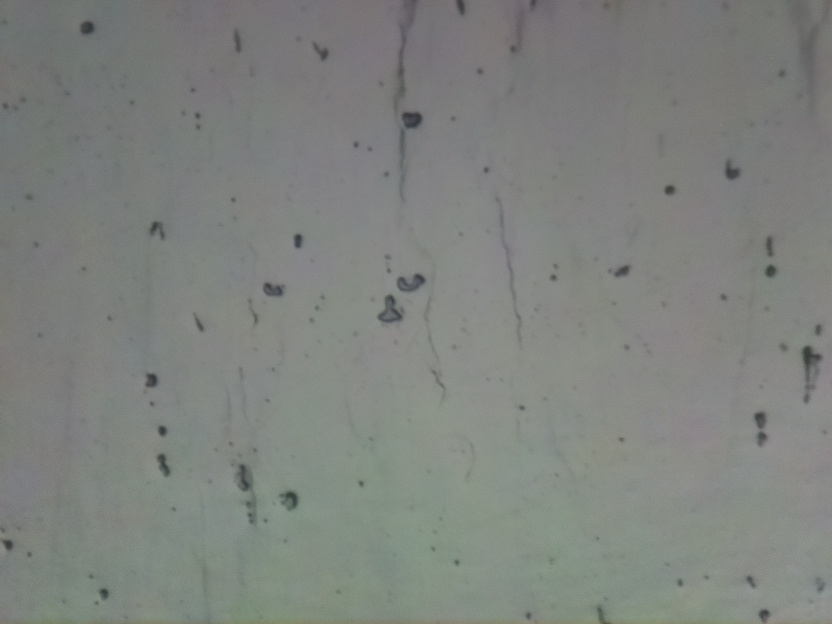crack: (389, 0, 423, 213), (488, 197, 526, 353)
